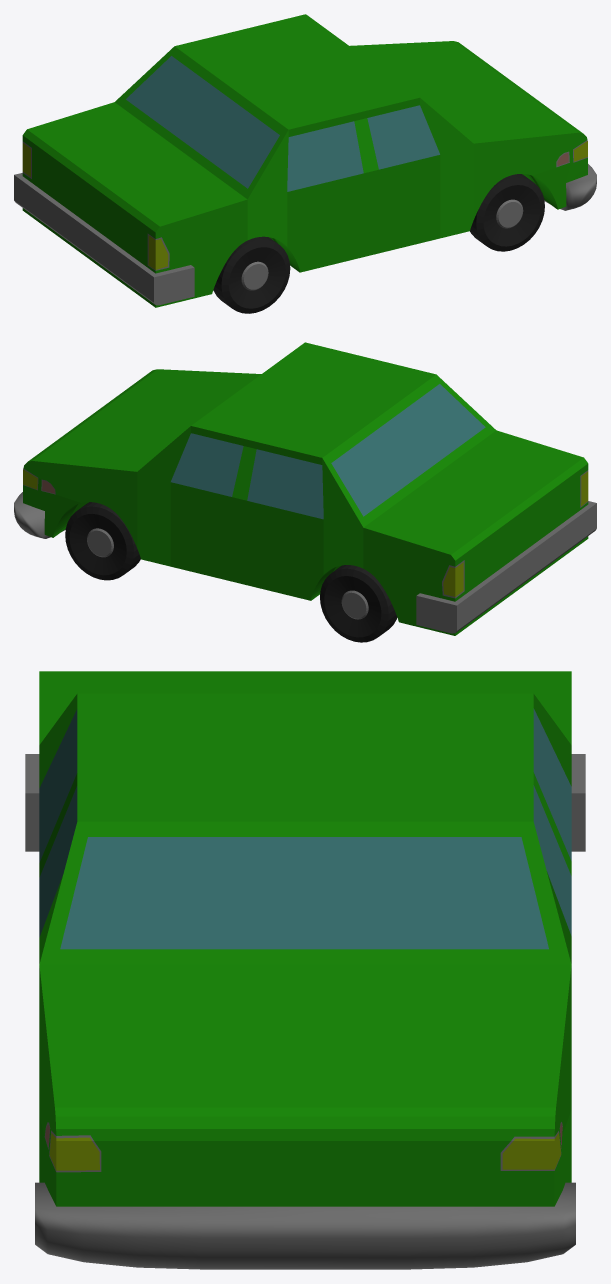
Rendered from auto verde.fbx.
3 views of the same model, one above another, from view 1: azimuth 30°, elevation 25°; view 2: azimuth 150°, elevation 25°; view 3: azimuth 270°, elevation 25° (orthographic). The views are drawn at different scales.
Visible parts, largest first — view 1: Cube, Cylinder, Cube.002; view 2: Cube, Cylinder, Cube.002; view 3: Cube, Cube.002.
Part boxes in pixels (x1,y1,x2,y2): Cube: (22,14,587,307); Cylinder: (213,174,544,313); Cube.002: (14,164,596,305); Cube: (23,342,588,635); Cylinder: (65,502,397,642); Cube.002: (14,492,596,633); Cube: (39,671,571,1206); Cube.002: (25,754,585,1269).
Size of the model in its own units: 396 by 211 by 140.
